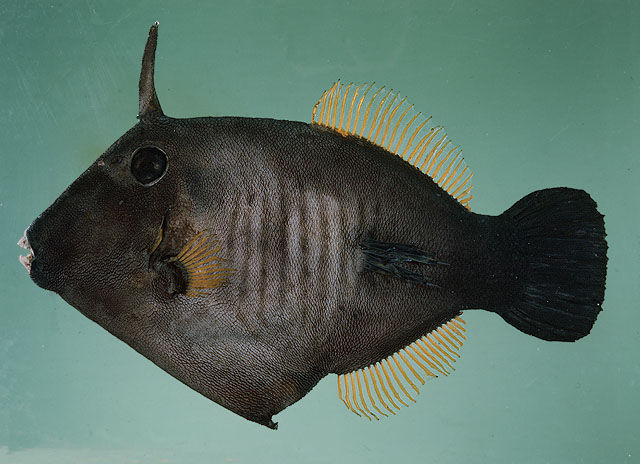fish: (21, 21, 610, 429)
